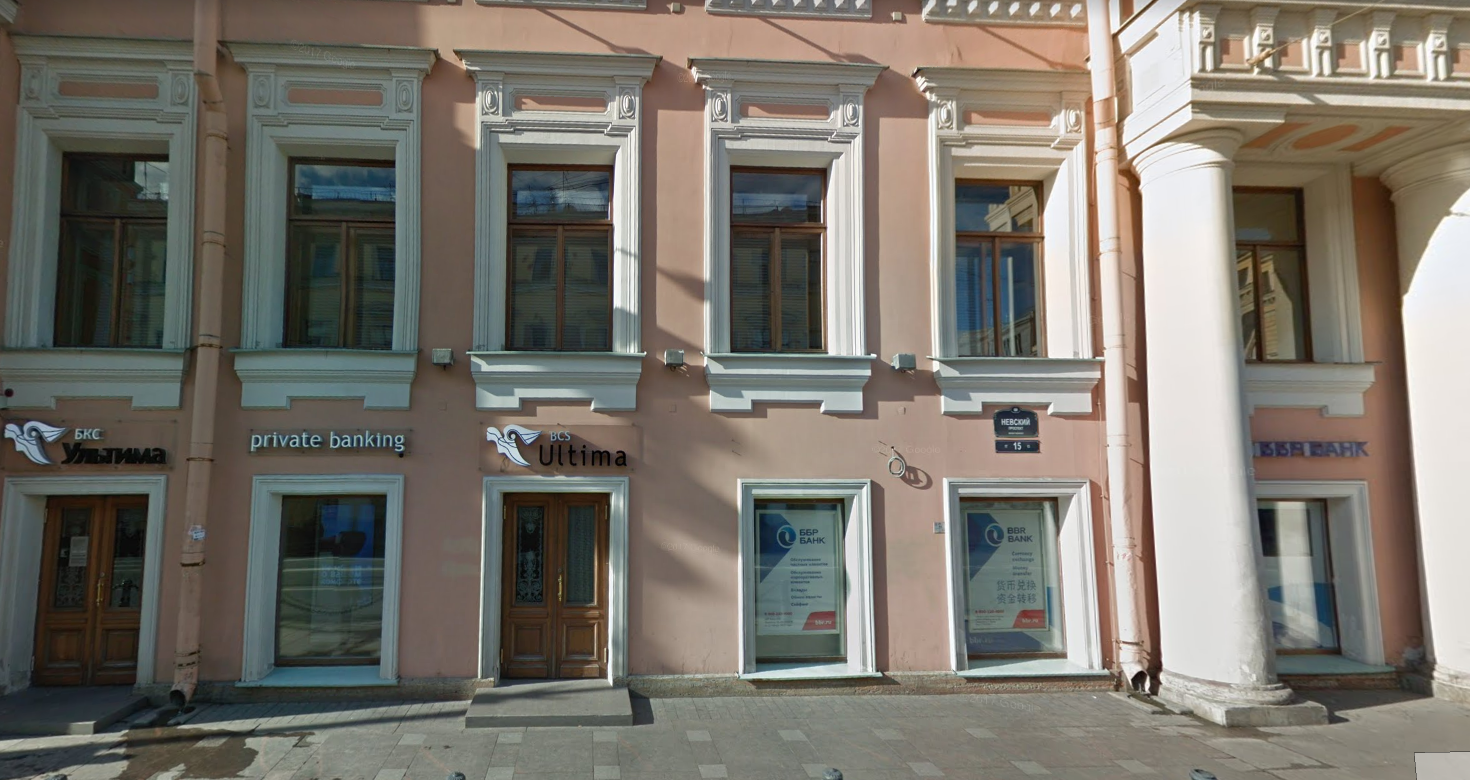door: (497, 488, 609, 682), (35, 496, 139, 691)
signboard: (1, 417, 180, 475), (483, 417, 637, 473), (246, 421, 417, 457), (1249, 434, 1374, 459)
window: (54, 154, 176, 347), (279, 158, 395, 349), (502, 165, 616, 352), (731, 165, 831, 356), (959, 495, 1067, 656), (284, 490, 381, 667), (954, 179, 1049, 358), (1233, 183, 1317, 364), (754, 503, 847, 662)
